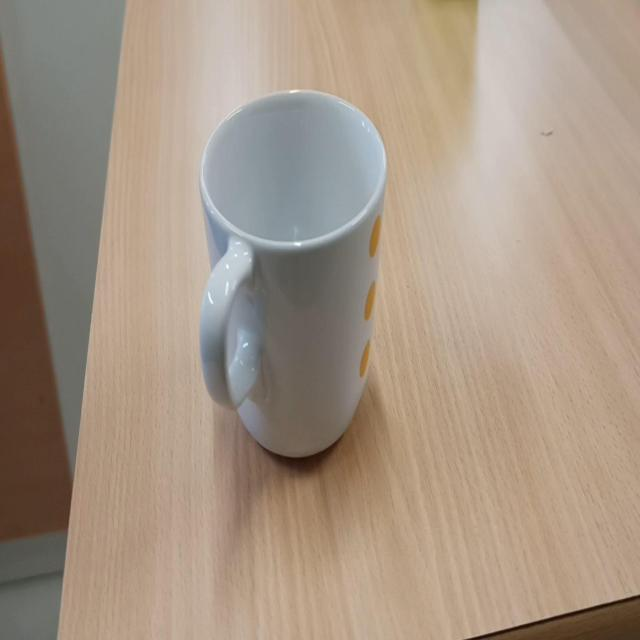cup: (196, 87, 392, 459)
